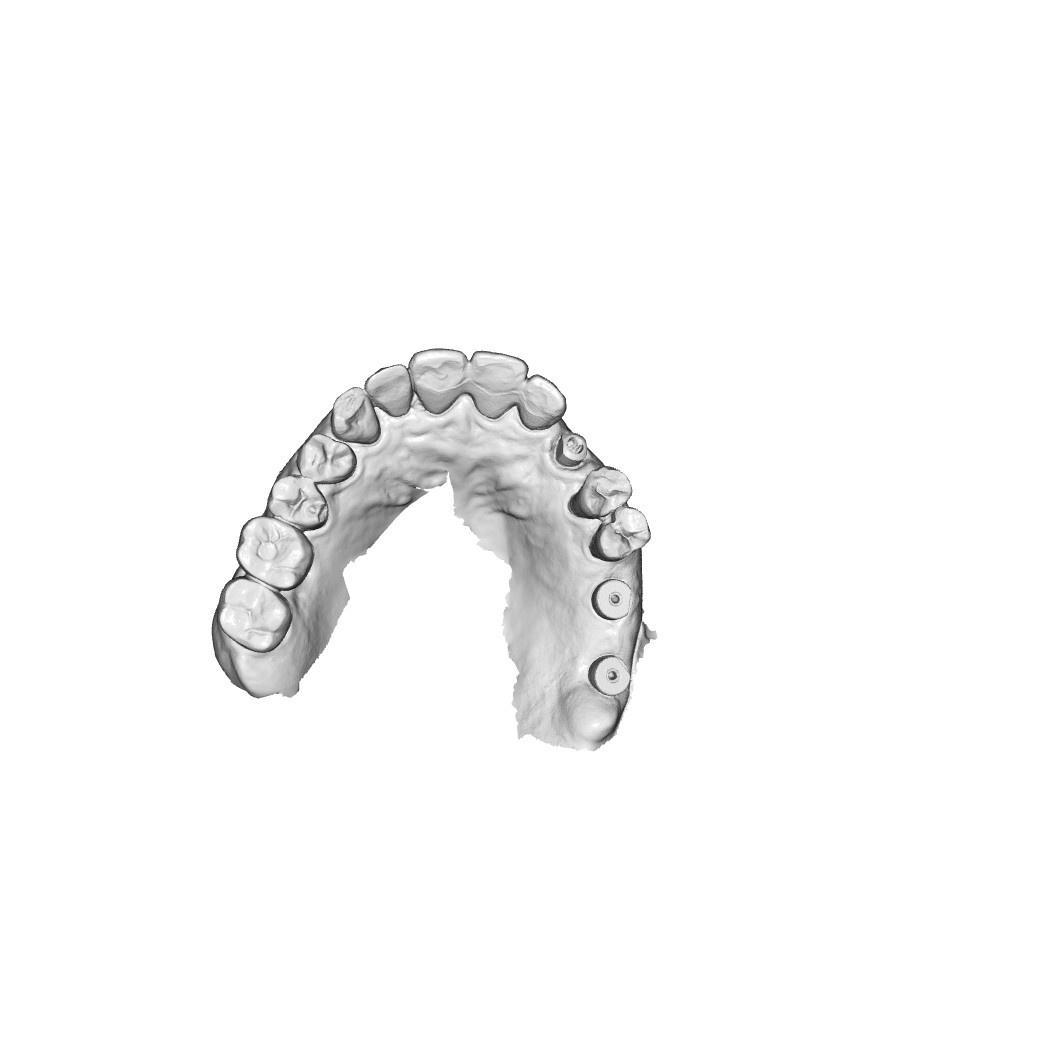canine: (331, 387, 385, 446)
implant: (592, 652, 631, 695), (594, 578, 631, 616), (555, 430, 591, 469)
incisor: (472, 349, 527, 413), (411, 346, 466, 410), (366, 362, 413, 420), (521, 377, 566, 434)
molar: (215, 578, 291, 649), (234, 519, 312, 585)
premolar: (591, 505, 651, 563), (269, 477, 331, 531), (572, 463, 627, 518), (300, 437, 359, 482)
